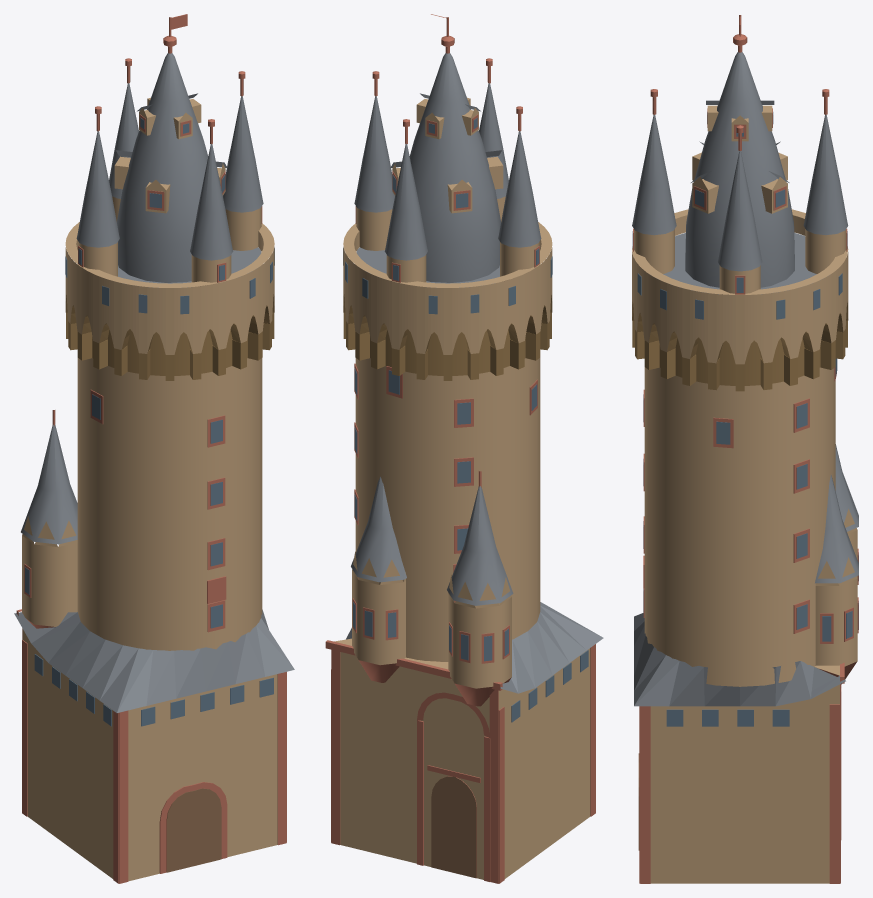
Rendered from frankfurt-eschenheimer-turm.glb.
3 renders of one model, left to right at view 1: azimuth 30°, elevation 25°; view 2: azimuth 150°, elevation 25°; view 3: azimuth 270°, elevation 25°, orthographic. The views are drawn at different scales.
Parts seen in each view (by area): view 1: Eschenheimer Turm; view 2: Eschenheimer Turm; view 3: Eschenheimer Turm.
Part boxes in pixels (bbox=[...]): Eschenheimer Turm: bbox=[14, 14, 294, 883]; Eschenheimer Turm: bbox=[325, 14, 603, 883]; Eschenheimer Turm: bbox=[632, 15, 858, 883].
Bounding box in the file's own units: 12.5 × 49.4 × 12.17.
